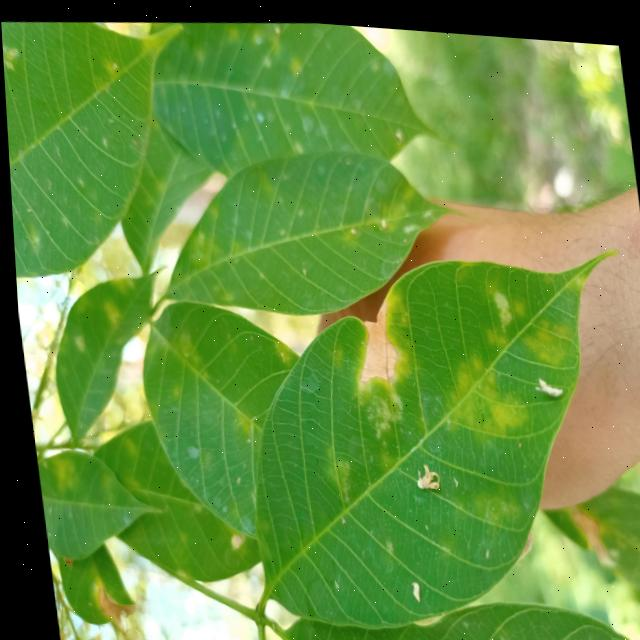Leaf-Blight: (344, 292, 395, 383), (87, 580, 130, 625)
